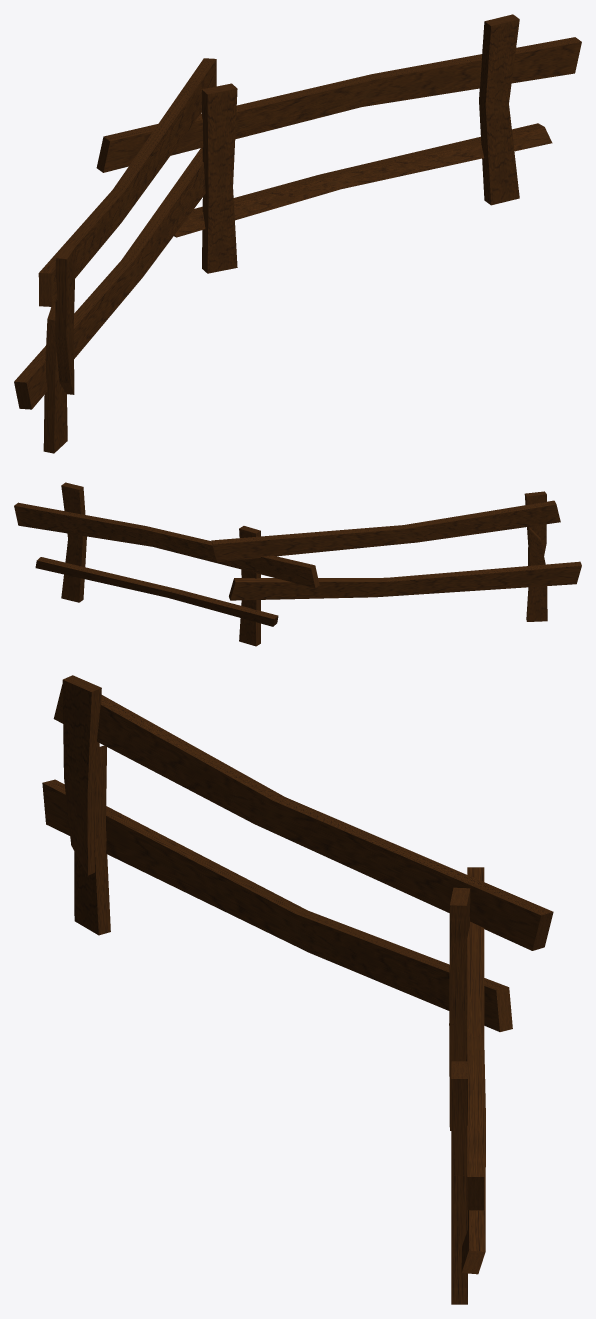
The model's file is barriere_45.FBX.
3 views of the same model, one above another, from view 1: azimuth 30°, elevation 25°; view 2: azimuth 150°, elevation 25°; view 3: azimuth 270°, elevation 25° (orthographic). The views are drawn at different scales.
Visible parts, largest first — view 1: barriere45; view 2: barriere45; view 3: barriere45.
Part boxes in pixels (x1=…): barriere45: x1=14, y1=14, x2=581, y2=453; barriere45: x1=14, y1=482, x2=581, y2=646; barriere45: x1=42, y1=675, x2=553, y2=1304.
Bounding box in the file's own units: 4.25 × 1.11 × 2.04.
